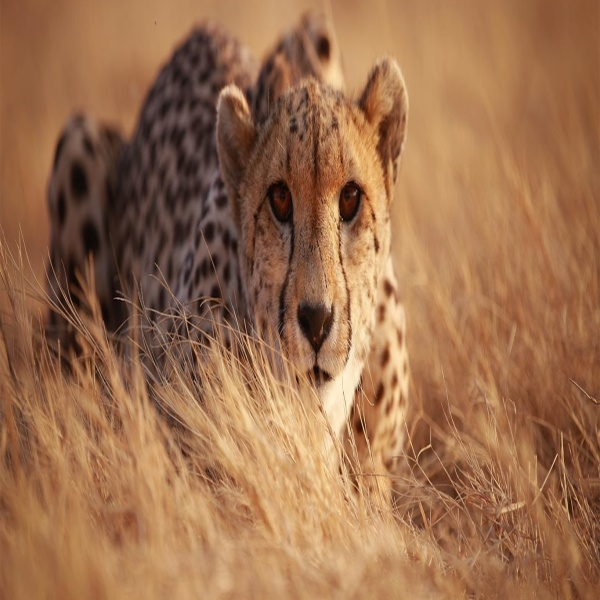Cheetah: (45, 15, 415, 480)
